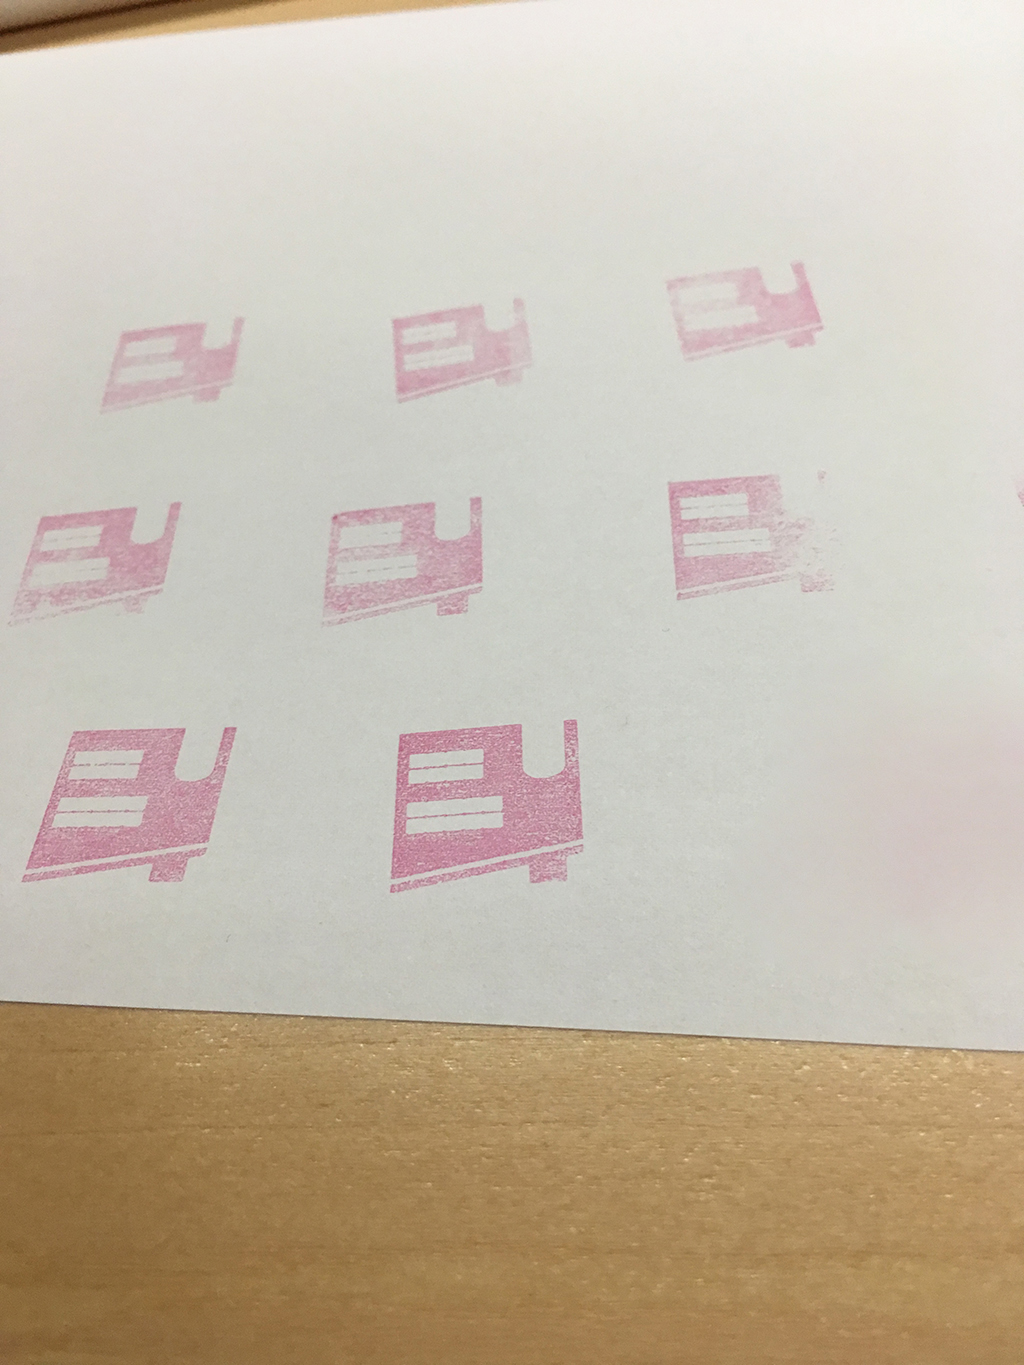house: (9, 705, 259, 908), (383, 702, 601, 906), (655, 469, 862, 618), (312, 486, 502, 640), (9, 490, 194, 639), (659, 246, 839, 383), (383, 283, 547, 411), (81, 305, 255, 421)
